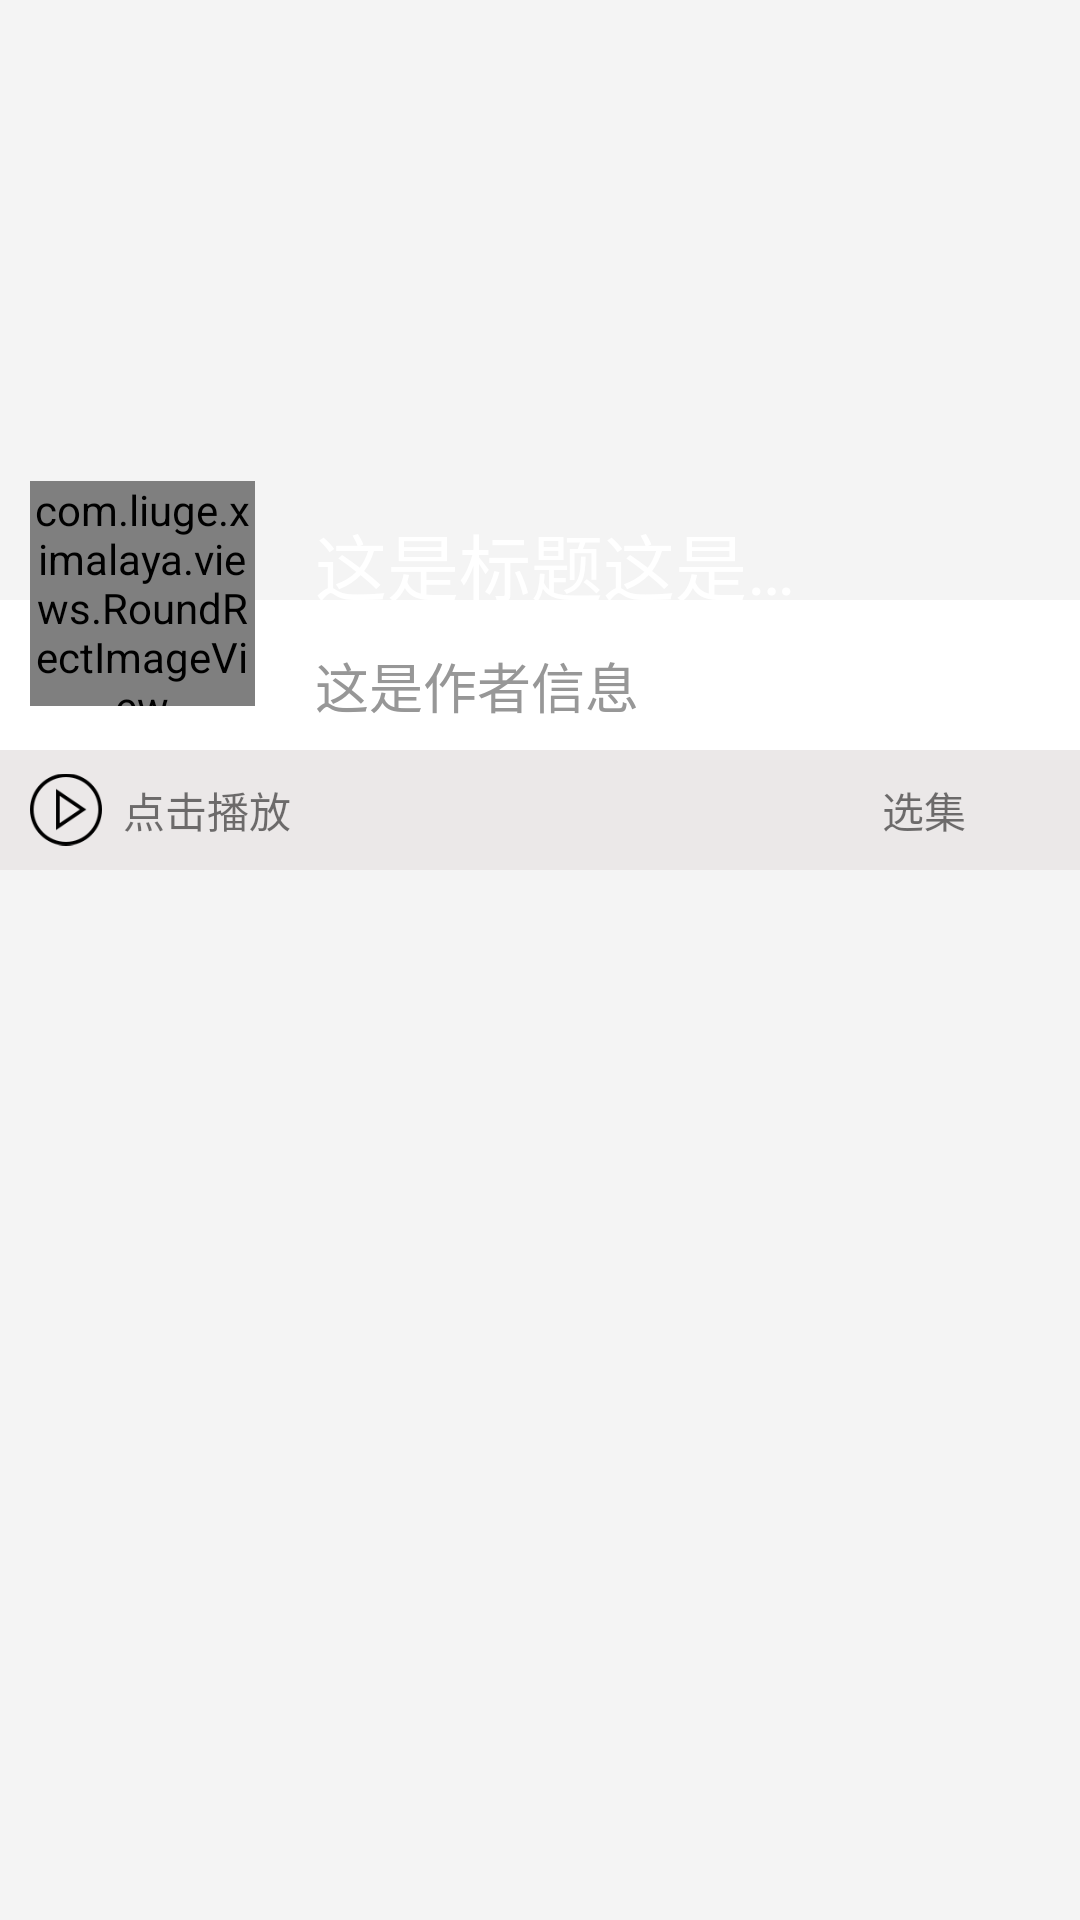

Point at icon controls on the screen. Image size 1080*1920, points as [x,y].
play: [66,810]
